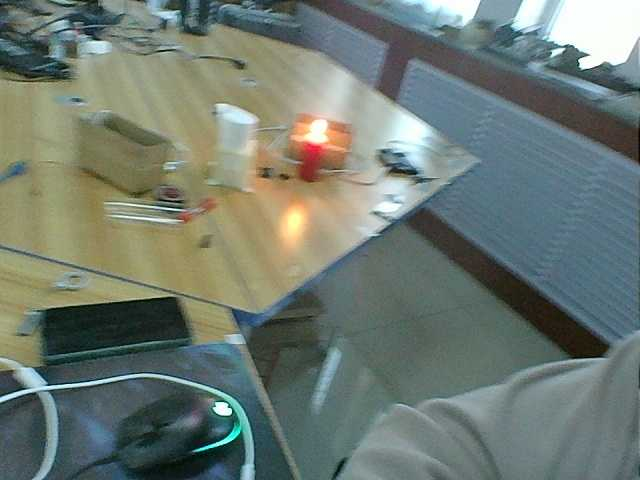candle: (290, 144, 332, 180)
fire: (302, 116, 336, 148)
